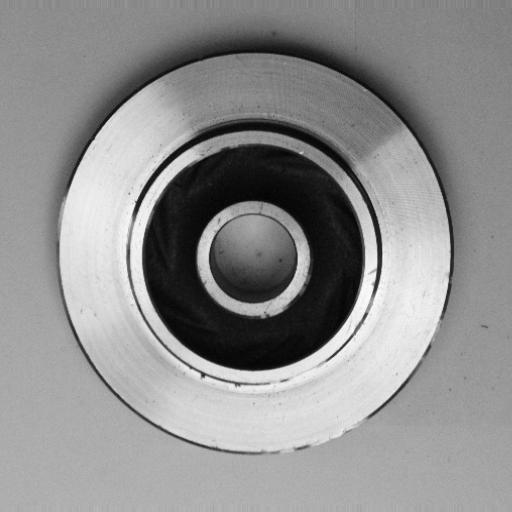crack: (224, 372, 252, 396), (189, 364, 212, 385)
scratch: (250, 282, 313, 324), (270, 357, 336, 395)
unpolished_casting: (52, 48, 458, 461)
